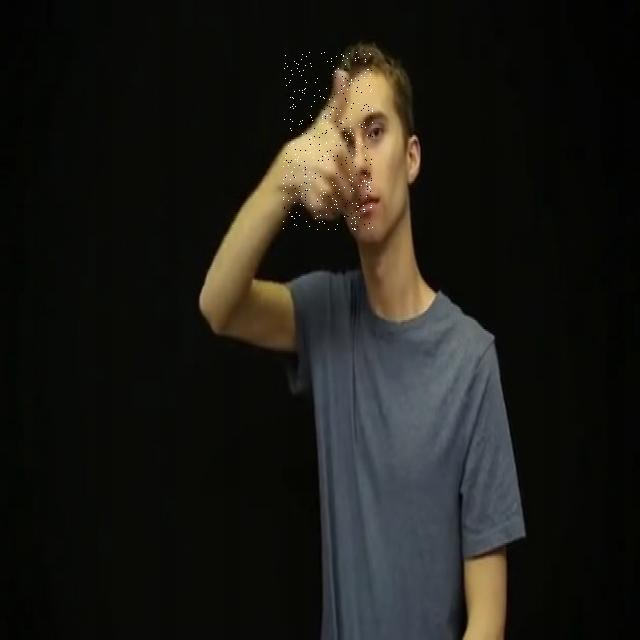pizza: (283, 52, 373, 230)
